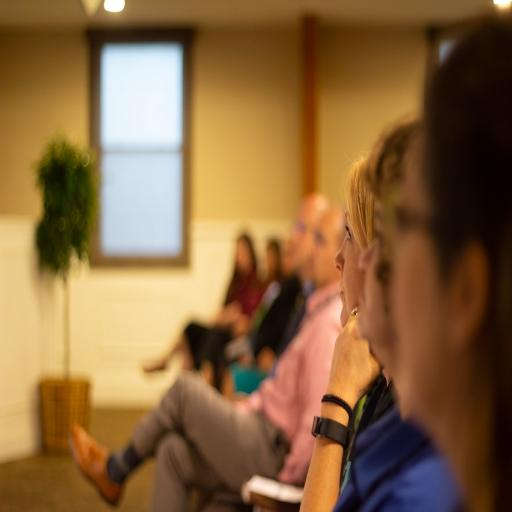face: (391, 163, 456, 428), (358, 200, 395, 375), (335, 218, 364, 326), (313, 210, 344, 287), (291, 202, 317, 282)
